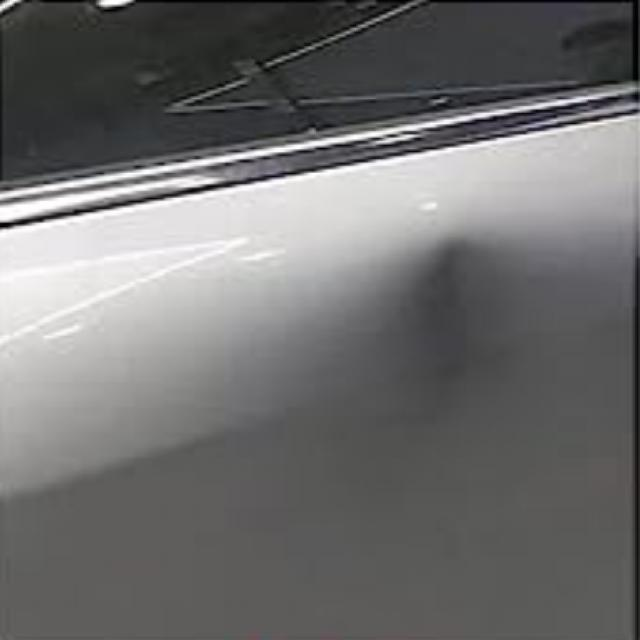dents: (381, 204, 562, 404)
